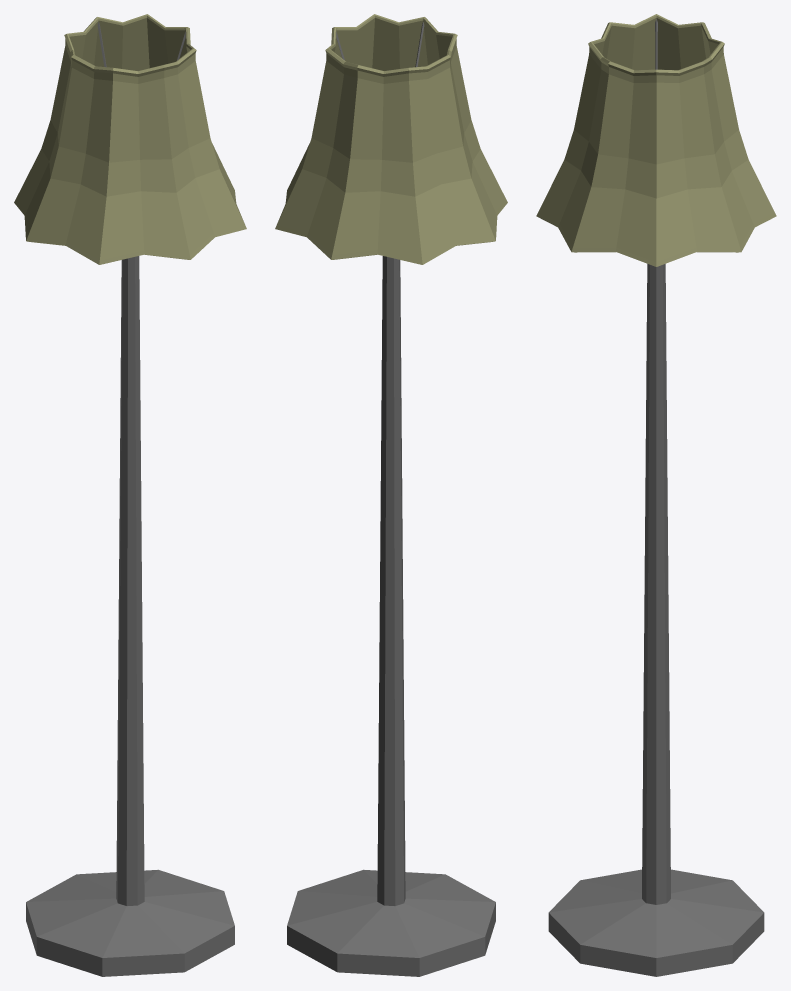
Rendered from standing_lamp2.fbx.
The picture shows the model from 3 angles, left to right: view 1: azimuth 30°, elevation 25°; view 2: azimuth 150°, elevation 25°; view 3: azimuth 270°, elevation 25°; orthographic projection.
Visible parts, largest first — view 1: standing_lamp2; view 2: standing_lamp2; view 3: standing_lamp2.
Boxes of the visible parts, x1,y1,x2,y2 form: standing_lamp2: (14, 14, 246, 976); standing_lamp2: (275, 14, 507, 976); standing_lamp2: (536, 14, 776, 976).
Size of the model in its own units: 0.5697 by 2.32 by 0.5697.
